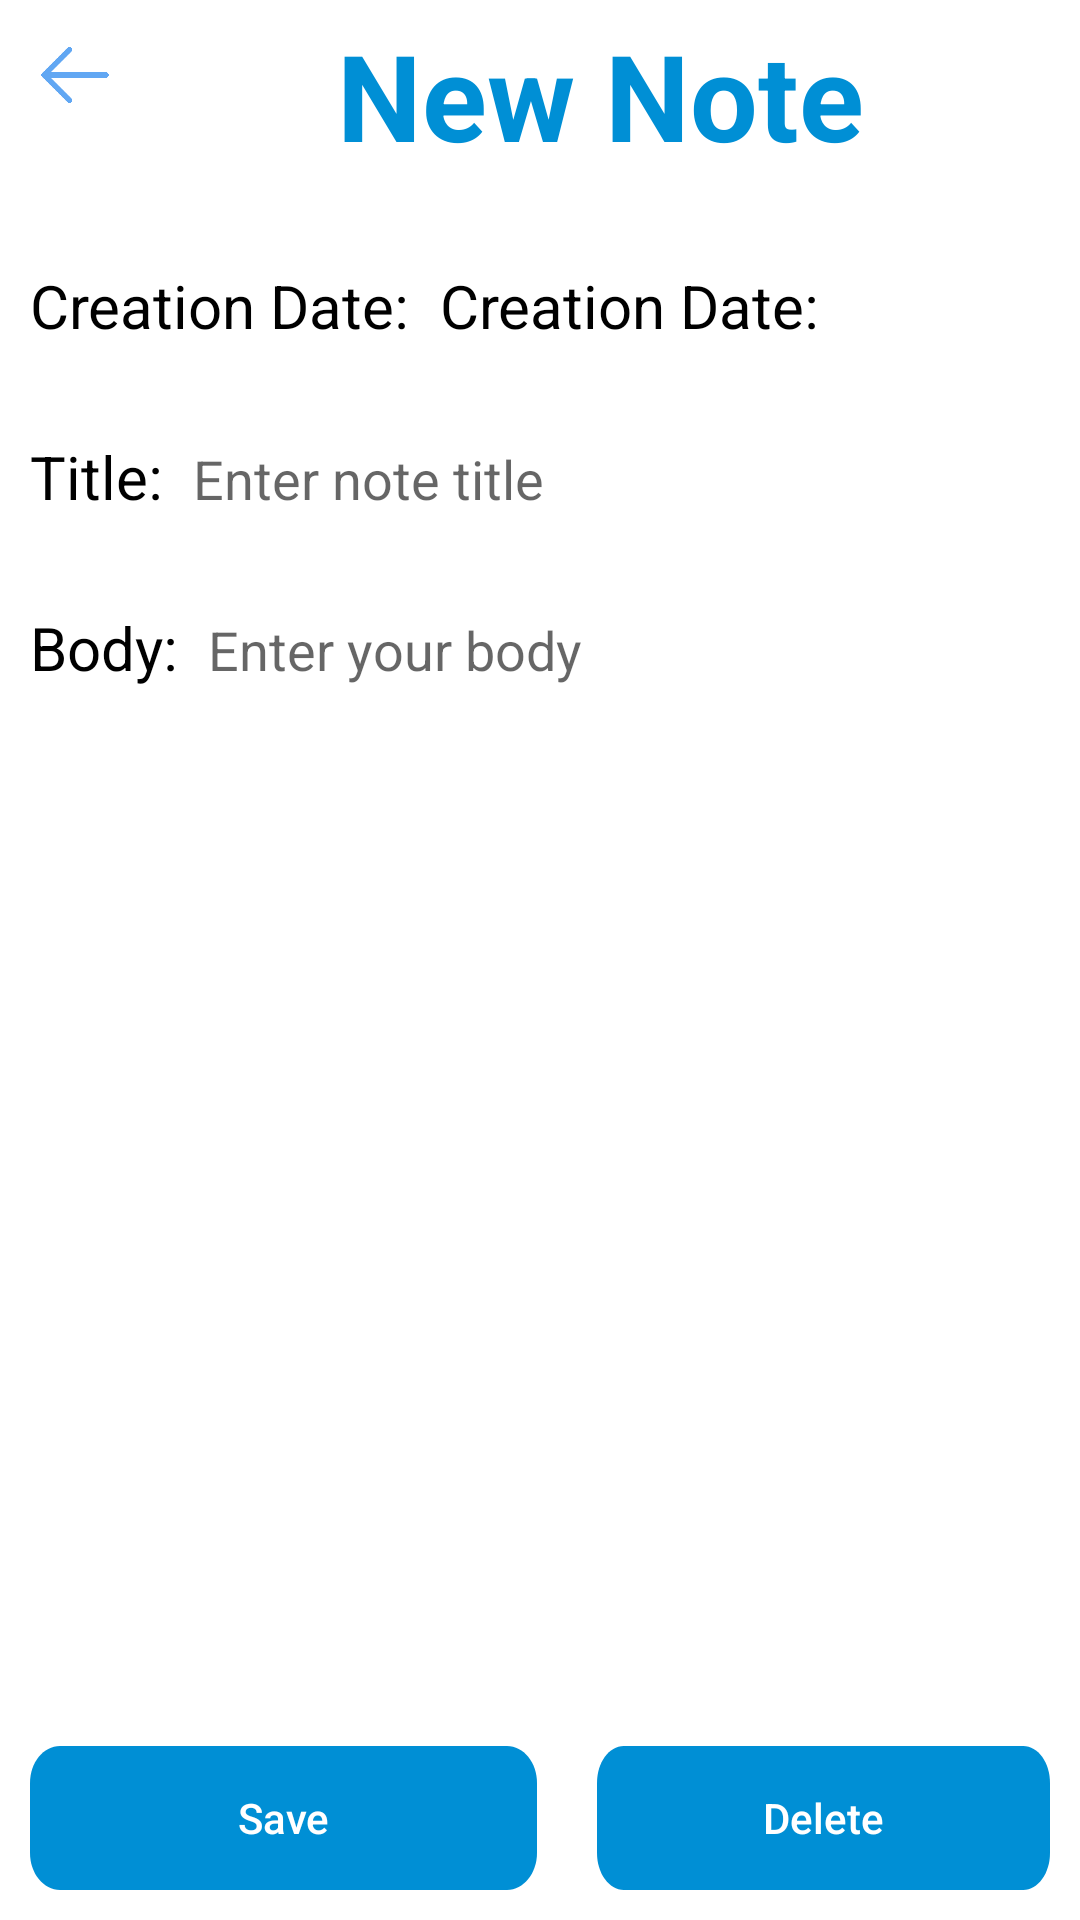

Named icons in this screenshot (1080x1920) and their centers, (x=x, y=y):
back: (x=75, y=75)
